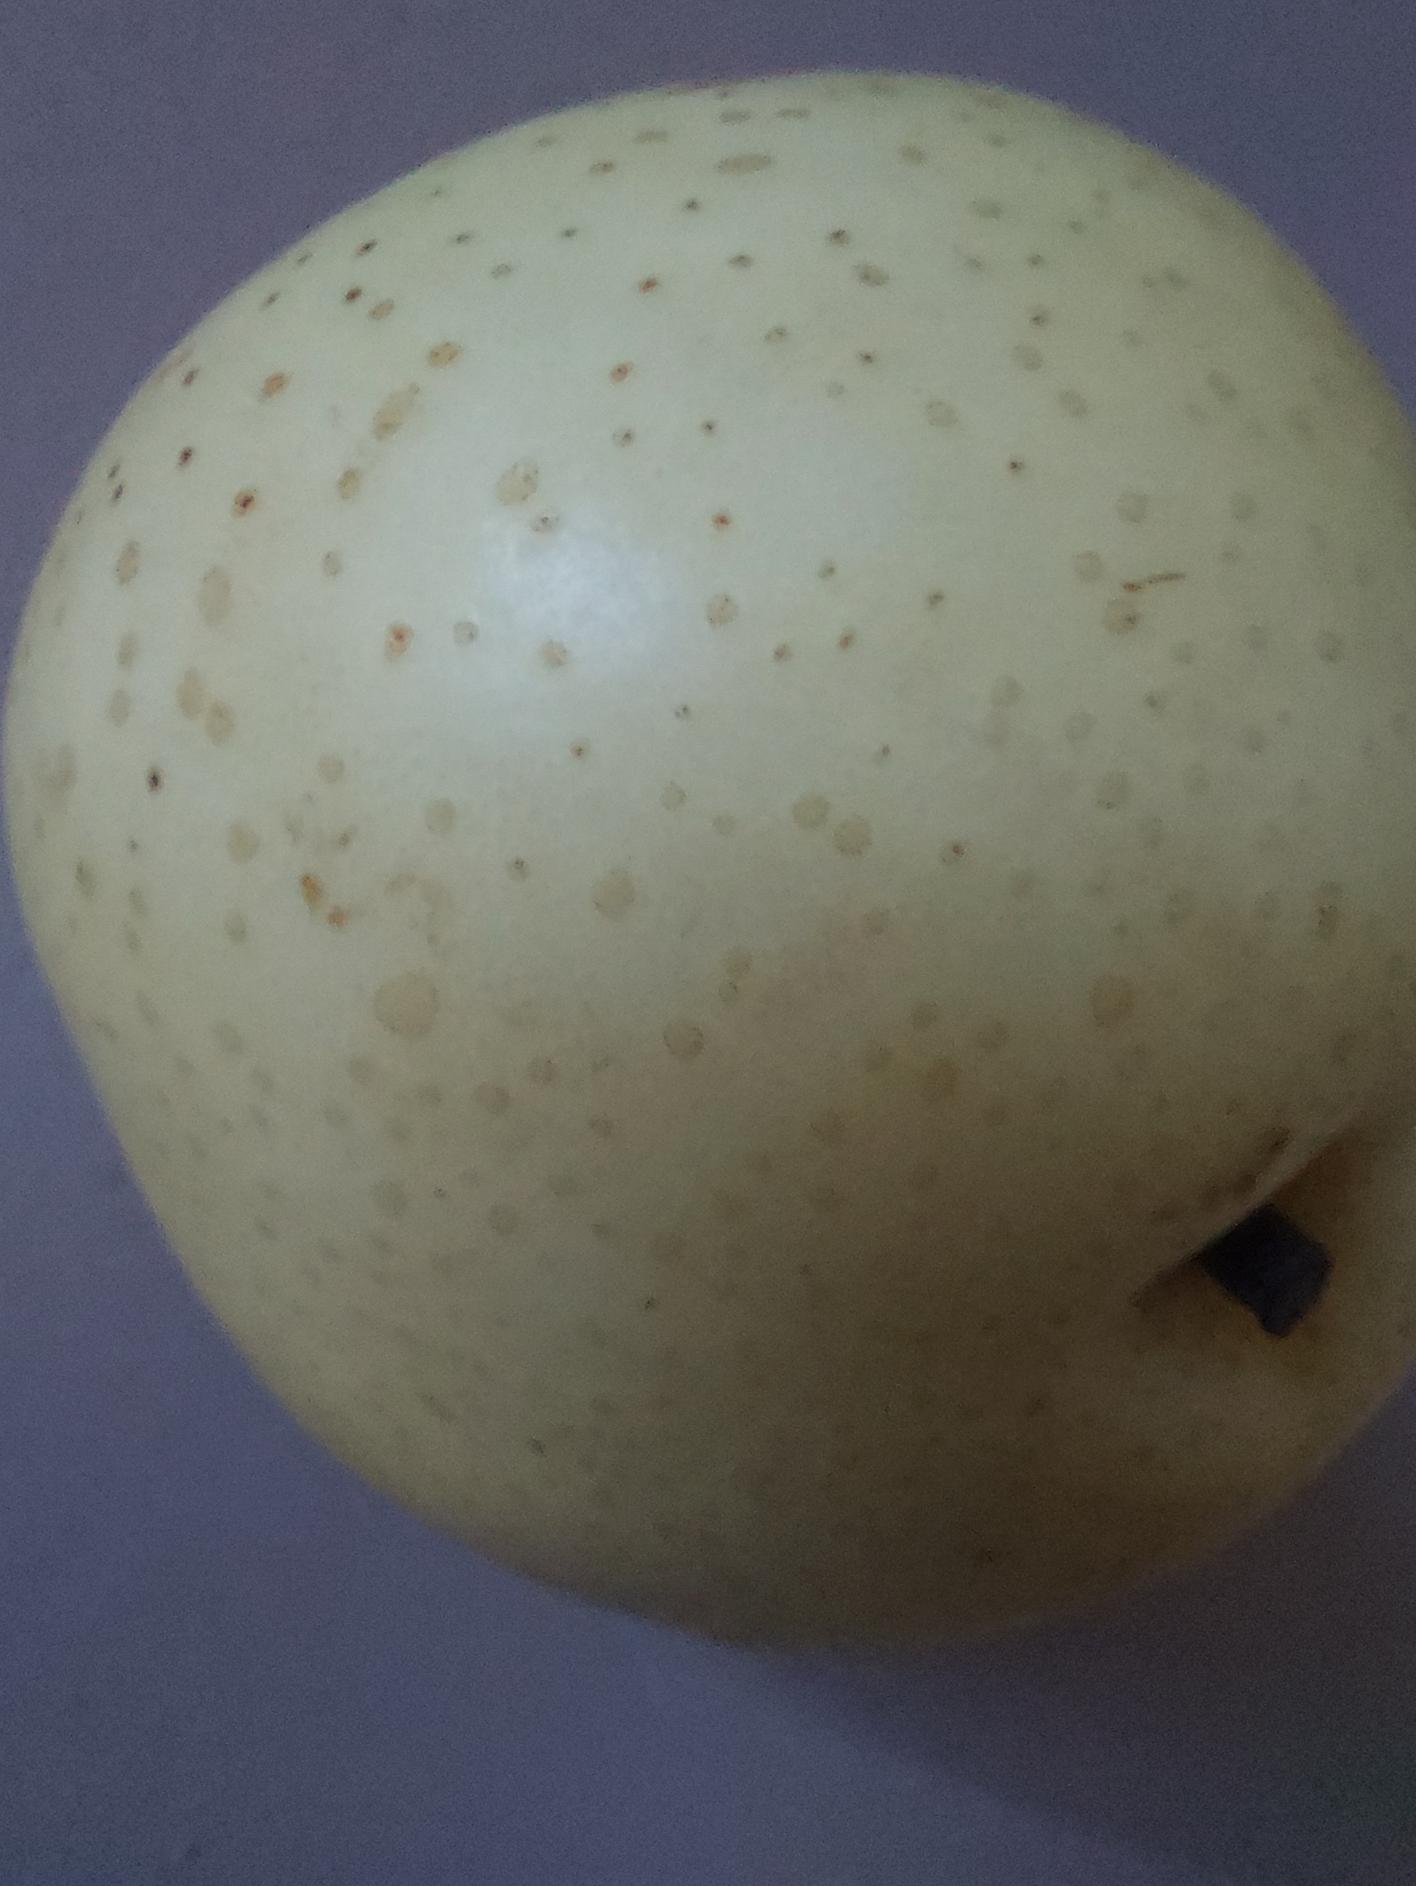Good Pear: (0, 0, 1416, 1722)
